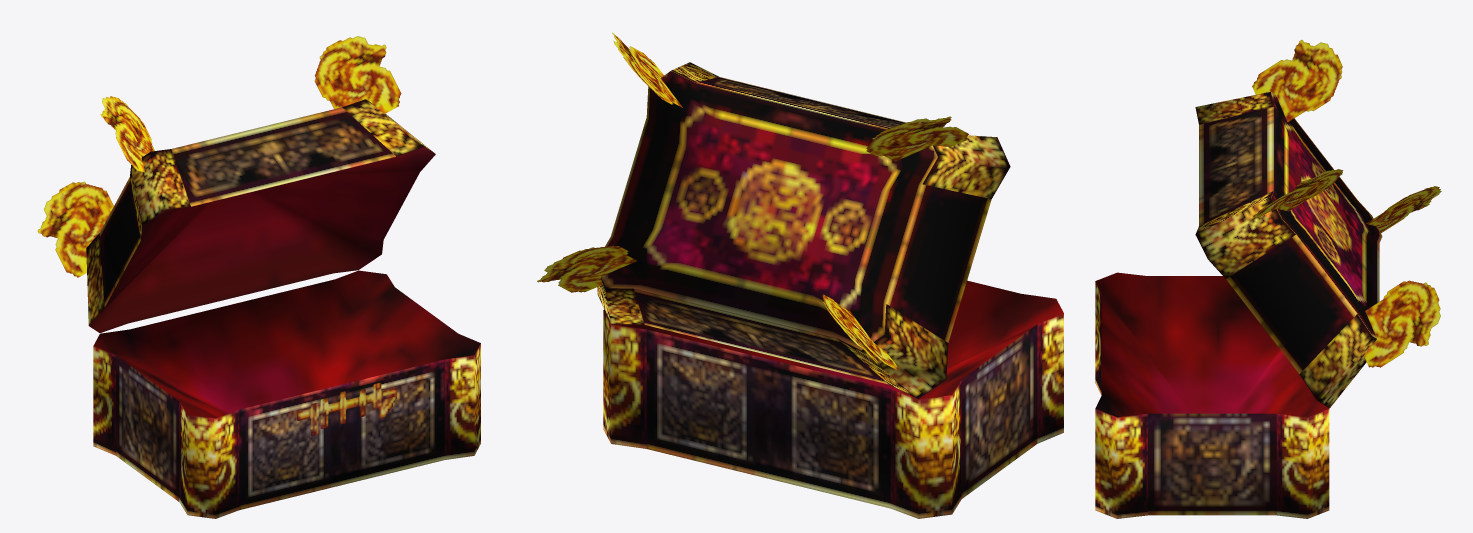
Rendered from drop_ch_equip_rare.glb.
3 views of the same model, side by side, from view 1: azimuth 30°, elevation 25°; view 2: azimuth 150°, elevation 25°; view 3: azimuth 270°, elevation 25° (orthographic). The views are drawn at different scales.
Parts seen in each view (by area): view 1: drop_ch_equip_rare; view 2: drop_ch_equip_rare; view 3: drop_ch_equip_rare.
Boxes of the visible parts, x1,y1,x2,y2 form: drop_ch_equip_rare: [37, 36, 480, 518]; drop_ch_equip_rare: [537, 32, 1063, 518]; drop_ch_equip_rare: [1095, 40, 1441, 518].
Bounding box in the file's own units: 0.5912 × 0.6595 × 0.6117.
1 material, 1 textured.
